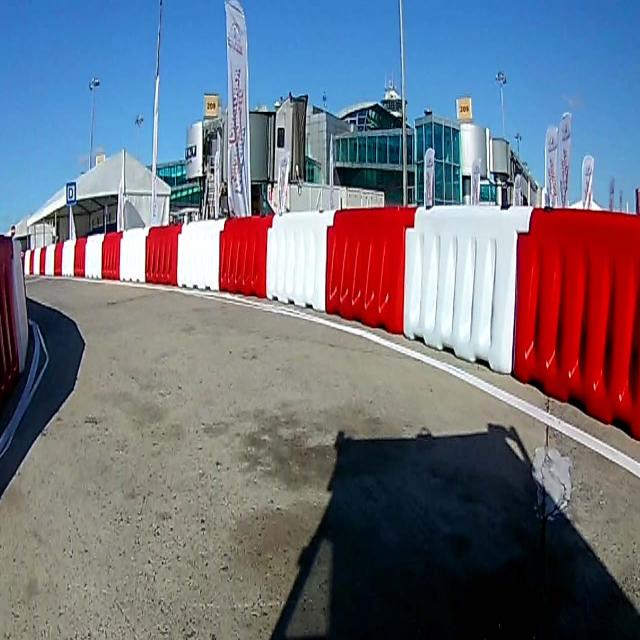durak: (65, 180, 77, 204)
